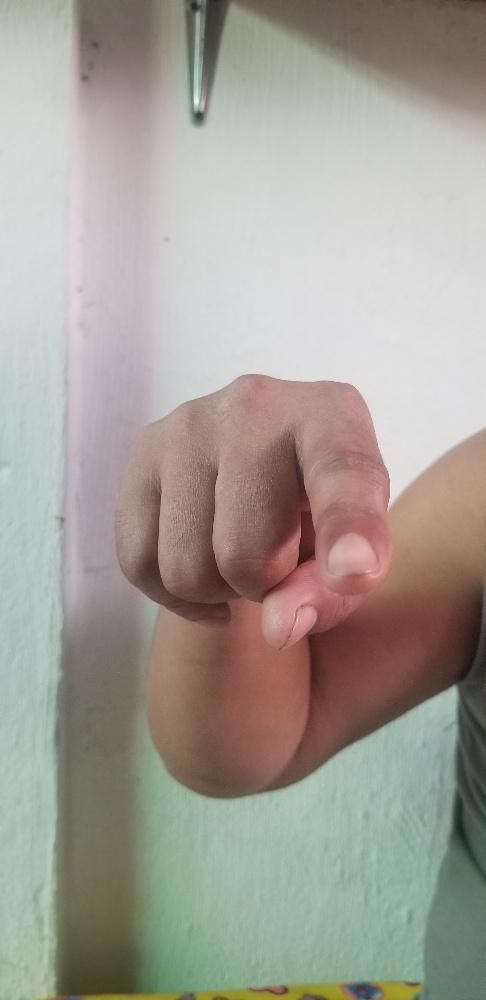z: (108, 370, 396, 653)
